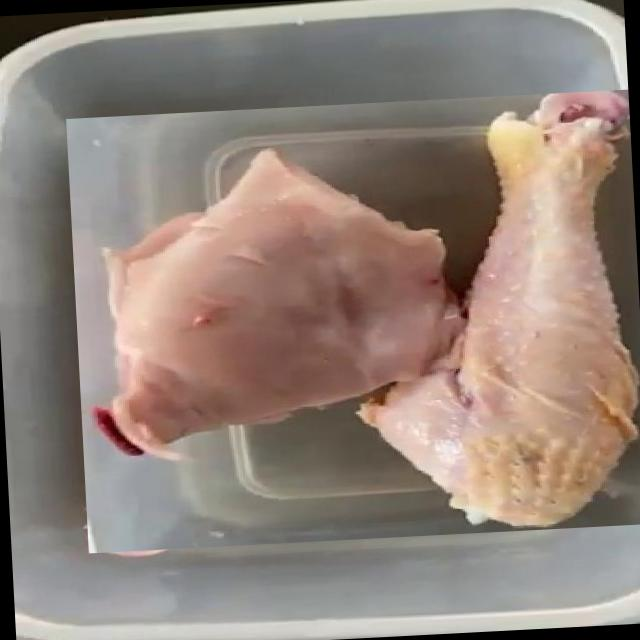chicken: (65, 88, 640, 553)
